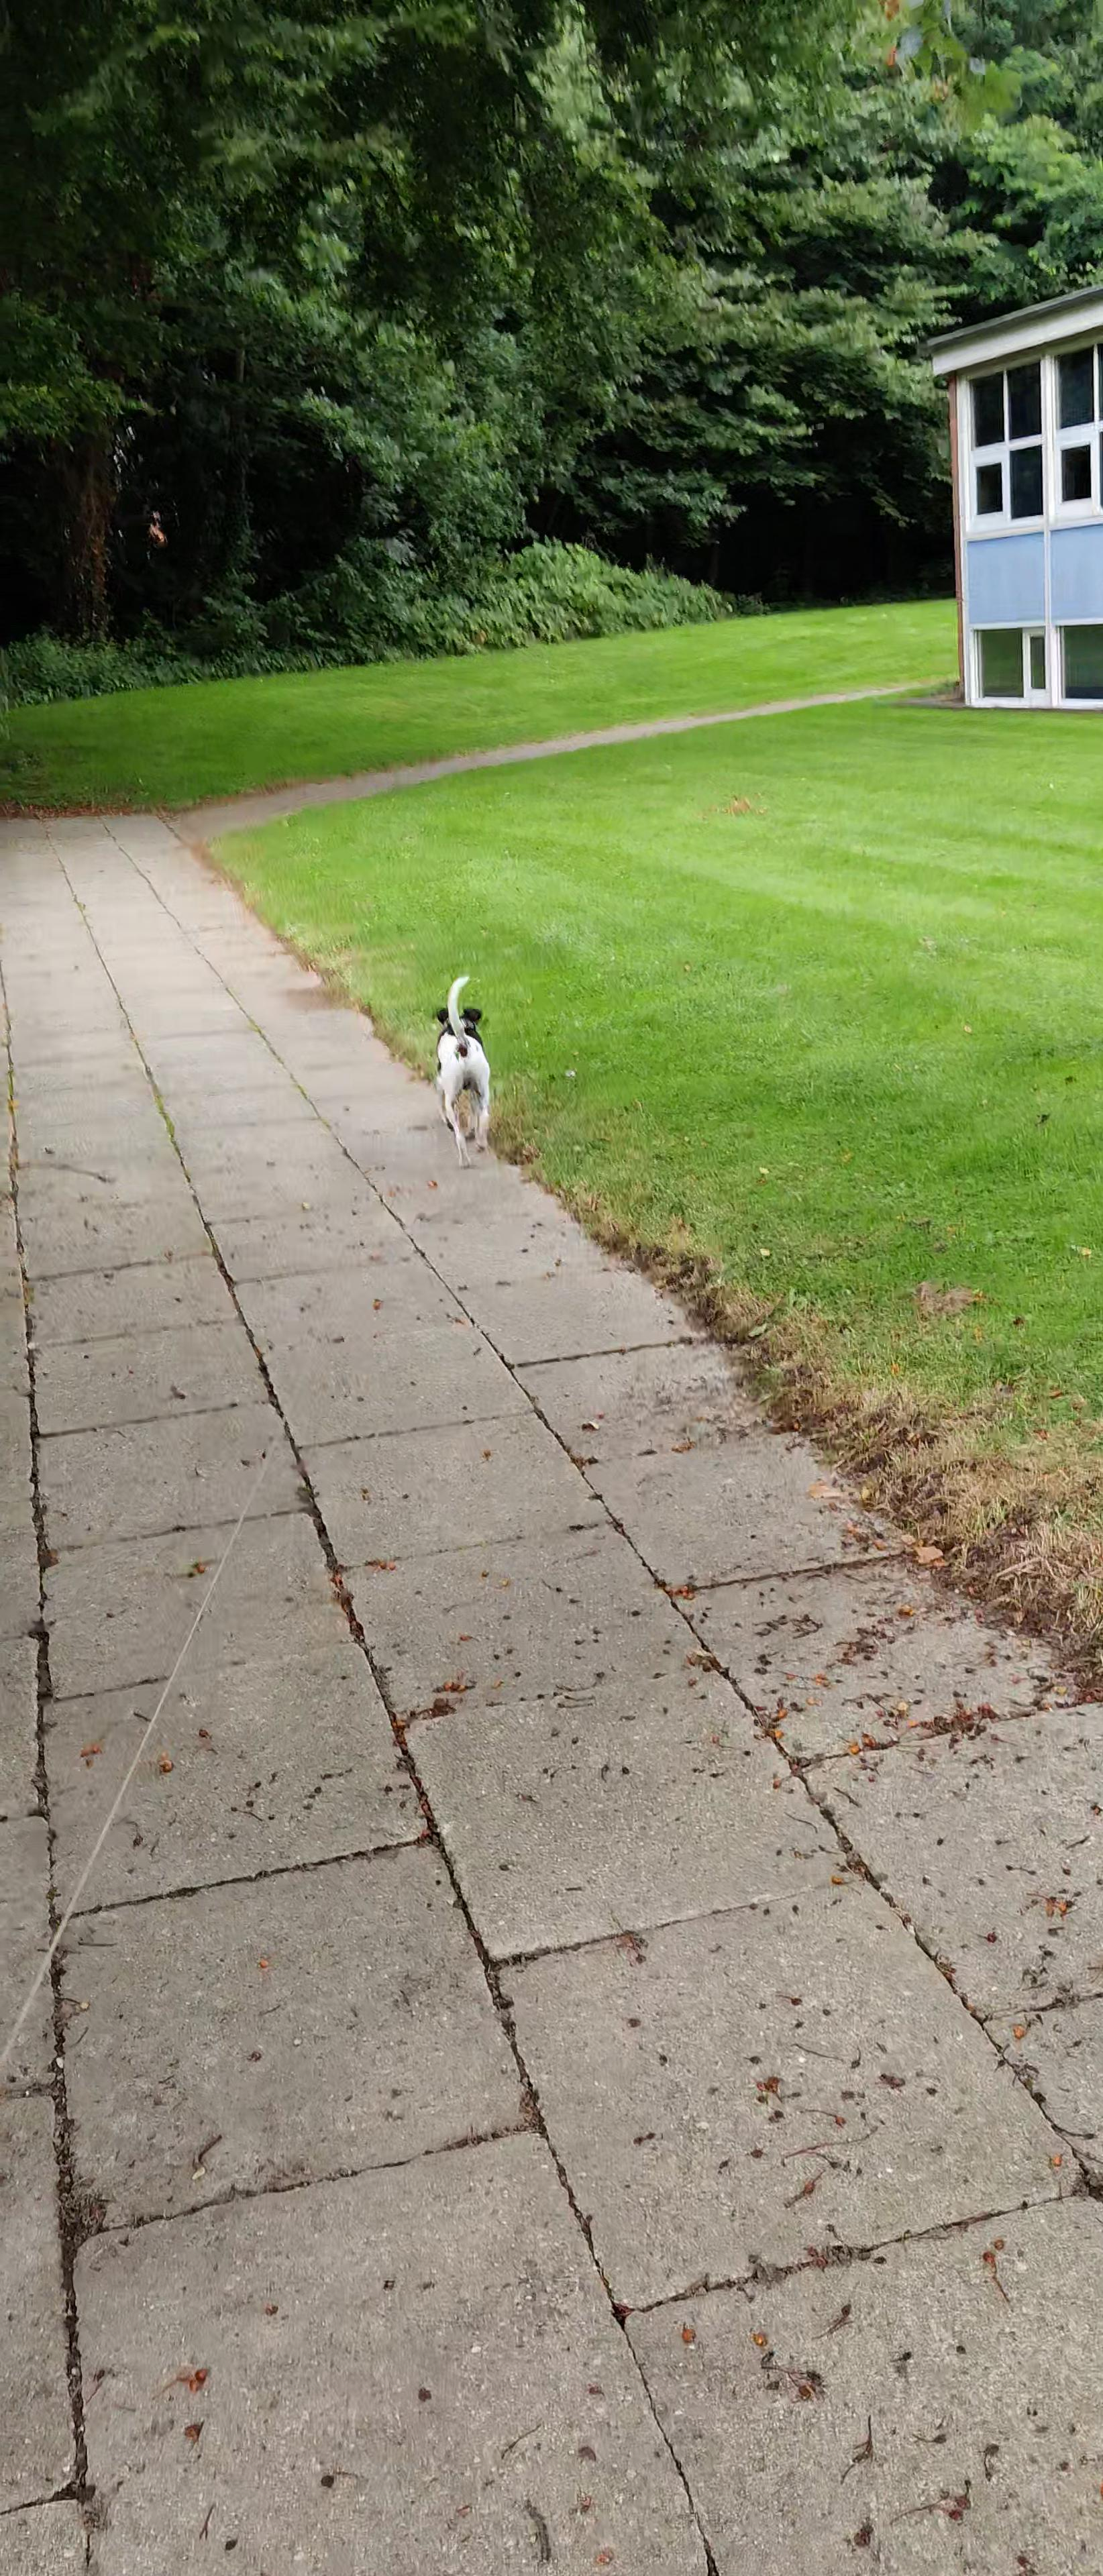Dog: (422, 969, 506, 1171)
